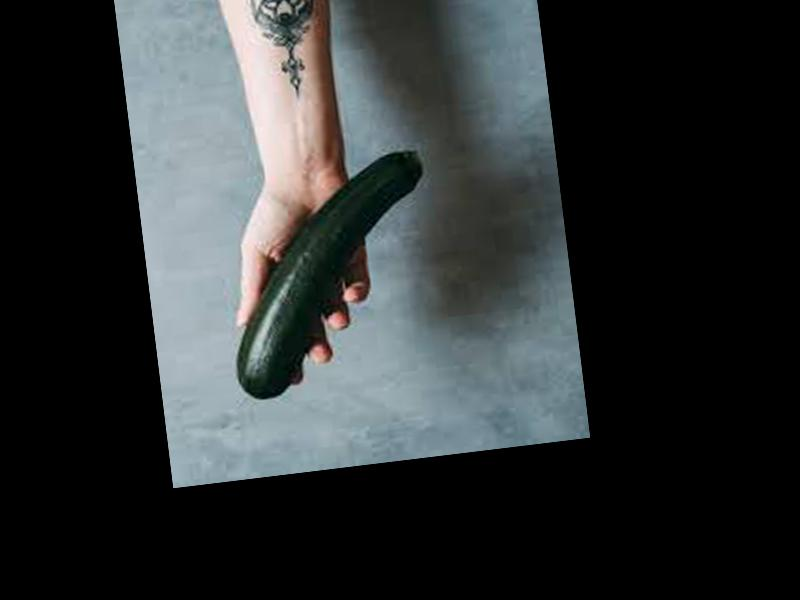Cucumber: (214, 151, 446, 402)
